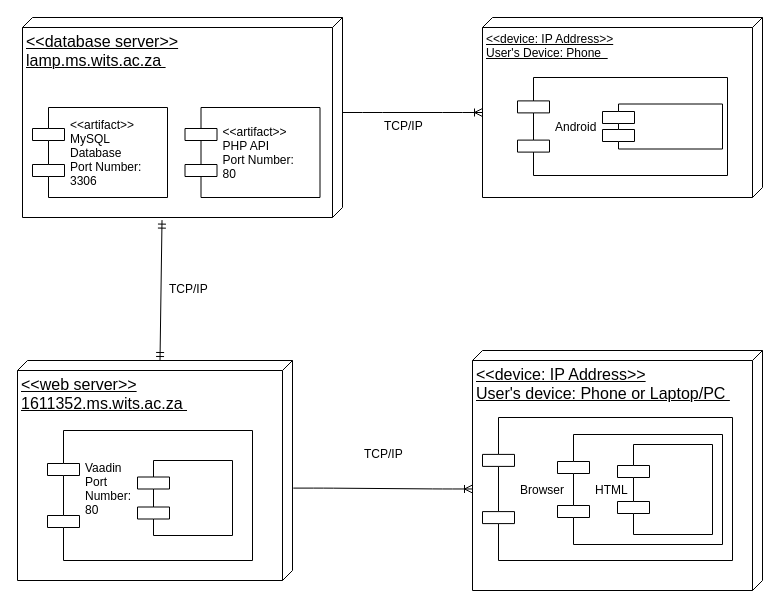
Some shapes in this 780 by 608 pixel diagram are drawn without their labels. The shapes that lost their labels are listed below. From the top down, each one's centre as x and y in pixels, then its label:
pixel 662 126: AlphaNomad Application
pixel 184 498: Jetty
pixel 664 489: Alpha Nomad Website
